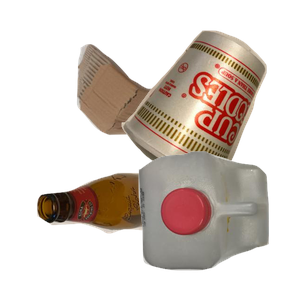cardboard: (74, 42, 225, 170)
glass: (34, 170, 223, 300)
plastic: (136, 149, 300, 300)
trash: (119, 28, 300, 207)
